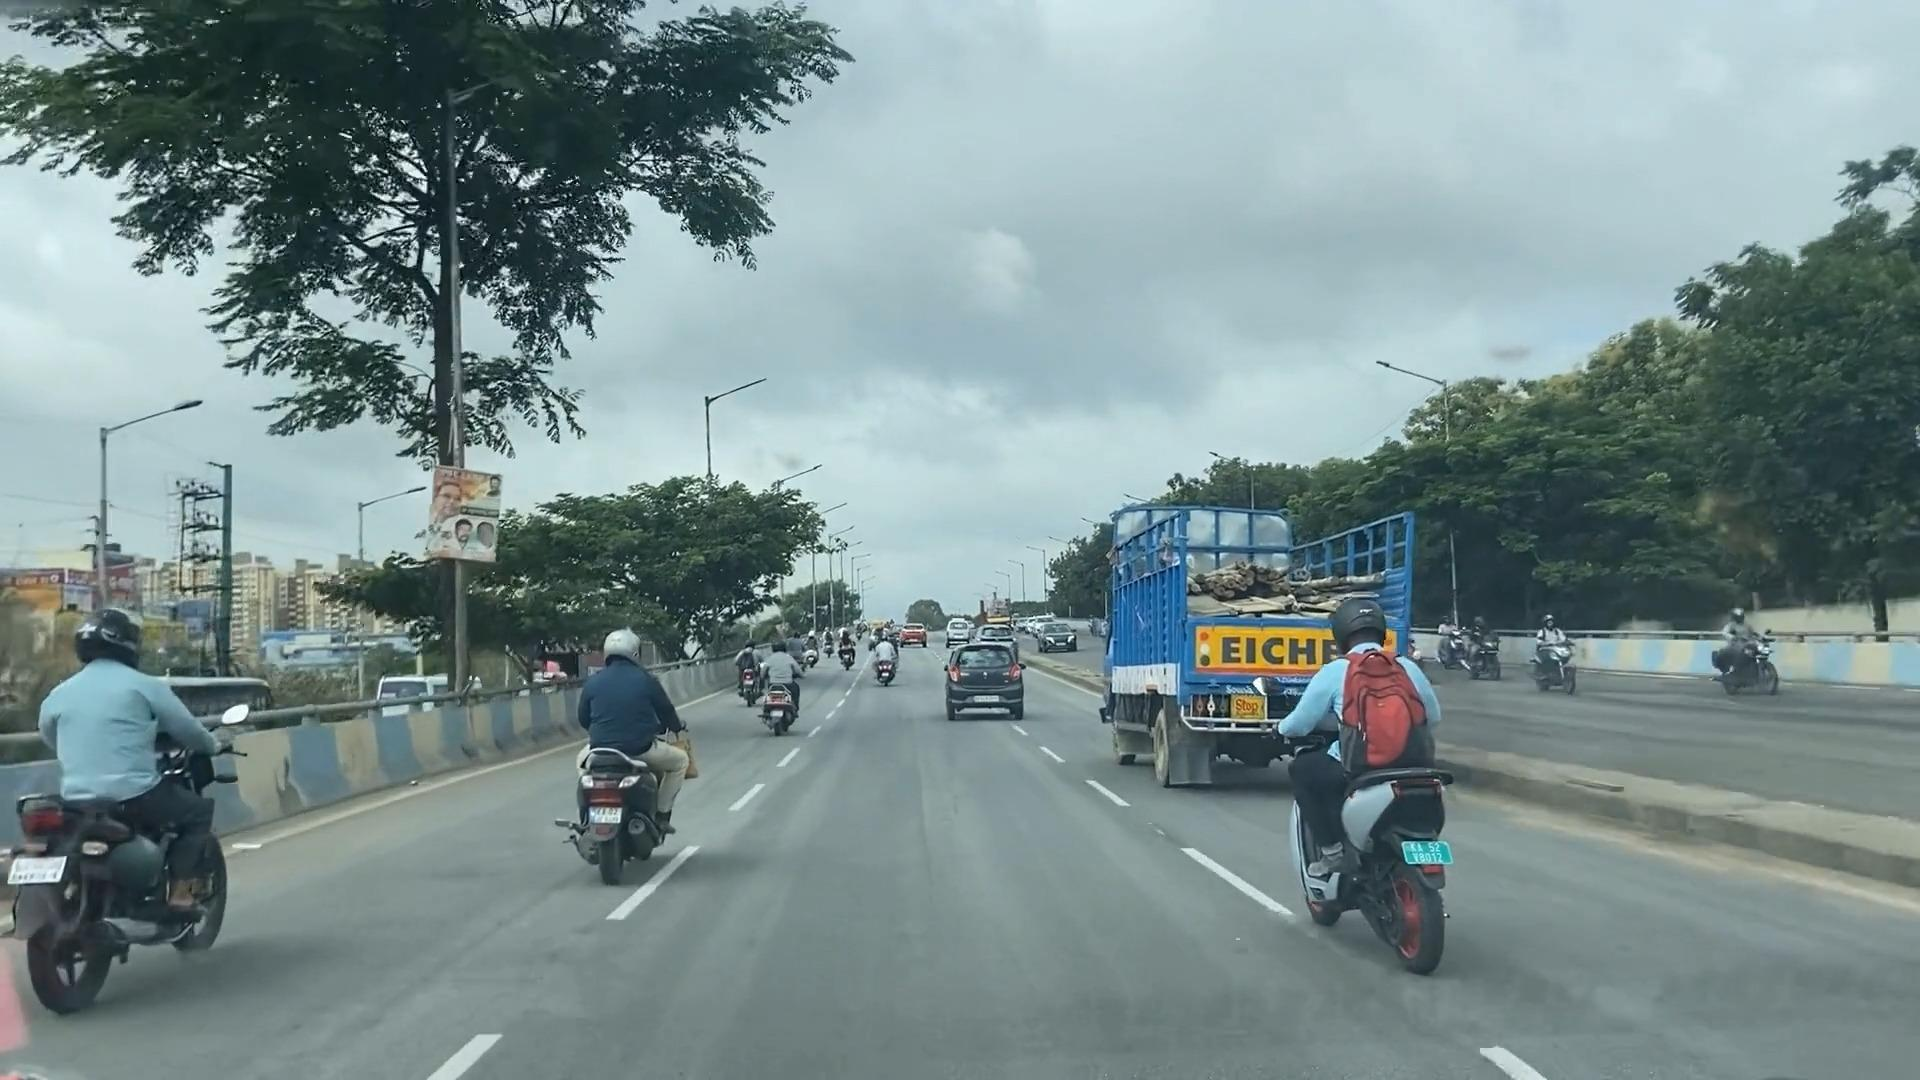LMV: (24, 613, 236, 1010), (1294, 624, 1462, 945), (580, 611, 698, 877), (949, 633, 1030, 732), (753, 653, 814, 723)
